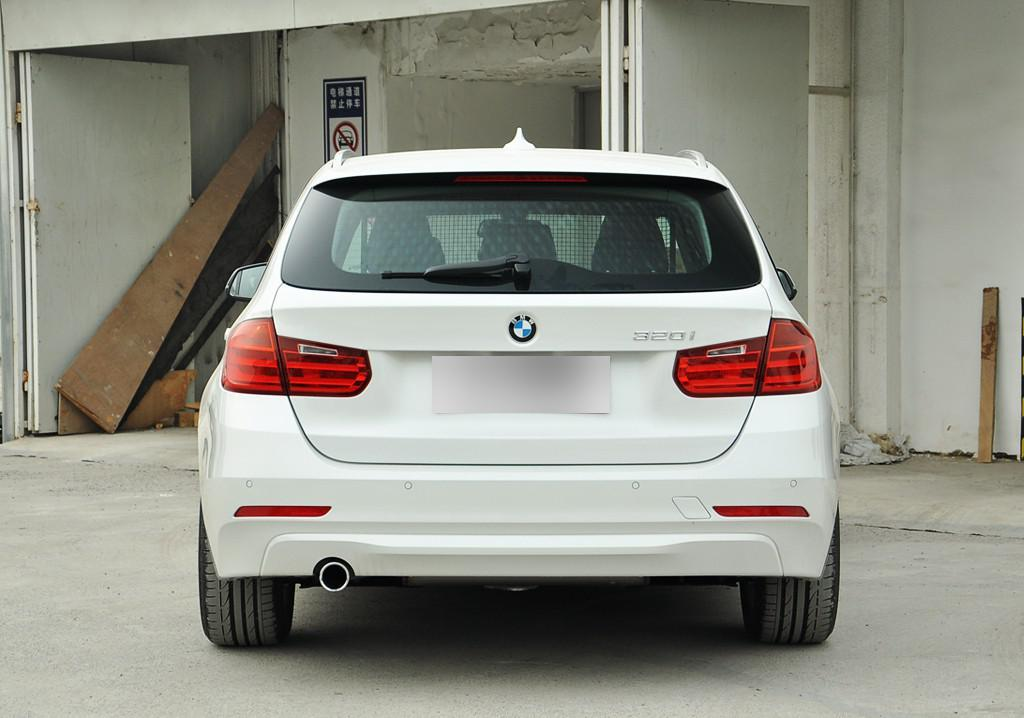Wagon: (197, 127, 841, 649)
